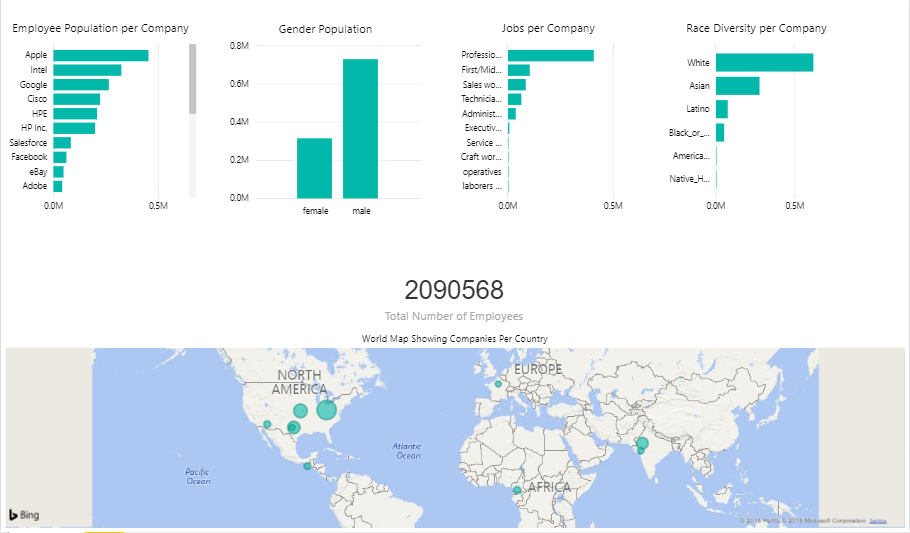

What the dashboard file says about the page in this screenshot:
{"tool":"powerbi","page":{"name":"Page 1","canvas":[1280,720],"ordinal":0},"visuals":[{"type":"clusteredBarChart","fields":{"Category":["Reveal_EEO1_for_2016.company"],"Y":["Sum(Reveal_EEO1_for_2016.count)"]},"box":[0,0,280.4,280.4],"z":1},{"type":"card","fields":{"Values":["Sum(Reveal_EEO1_for_2016.count)"]},"box":[0,343.8,1276.6,91.6],"z":3},{"type":"clusteredColumnChart","fields":{"Category":["Reveal_EEO1_for_2016.gender"],"Y":["Sum(Reveal_EEO1_for_2016.count)"]},"box":[317,1.4,280.4,280.4],"z":4},{"type":"map","fields":{"Category":["Reveal_EEO1_for_2016.company"],"Size":["Sum(Reveal_EEO1_for_2016.count)"]},"box":[1.4,439.6,1276.6,280.4],"z":4},{"type":"clusteredBarChart","fields":{"Category":["Reveal_EEO1_for_2016.job_category"],"Y":["Sum(Reveal_EEO1_for_2016.count)"]},"box":[631.2,0,280.4,280.4],"z":6},{"type":"clusteredBarChart","fields":{"Category":["Reveal_EEO1_for_2016.race"],"Y":["Sum(Reveal_EEO1_for_2016.count)"]},"box":[924.3,0,280.4,280.4],"z":8}]}

Visuals, with their boxes on the page's 1280x720 design canvas (x1, y1, x2, y2). These are canvas units, not pixel positions in the 910x533 screenshot, which may show the page scaled, cropped or inside an application window:
clusteredBarChart - Reveal_EEO1_for_2016.company x Sum(Reveal_EEO1_for_2016.count): 0:0:280:280
card - Sum(Reveal_EEO1_for_2016.count): 0:344:1277:435
clusteredColumnChart - Reveal_EEO1_for_2016.gender x Sum(Reveal_EEO1_for_2016.count): 317:1:597:282
map - Reveal_EEO1_for_2016.company x Sum(Reveal_EEO1_for_2016.count): 1:440:1278:720
clusteredBarChart - Reveal_EEO1_for_2016.job_category x Sum(Reveal_EEO1_for_2016.count): 631:0:912:280
clusteredBarChart - Reveal_EEO1_for_2016.race x Sum(Reveal_EEO1_for_2016.count): 924:0:1205:280
